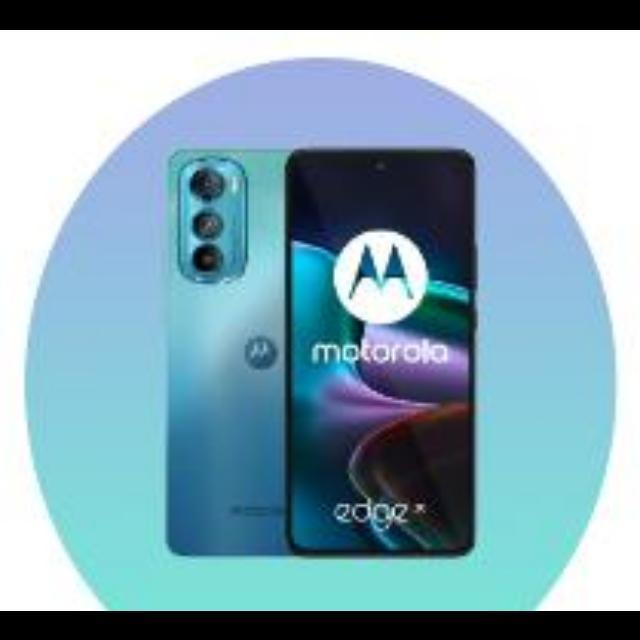PhoneUse: (292, 146, 474, 556), (170, 148, 290, 554)
